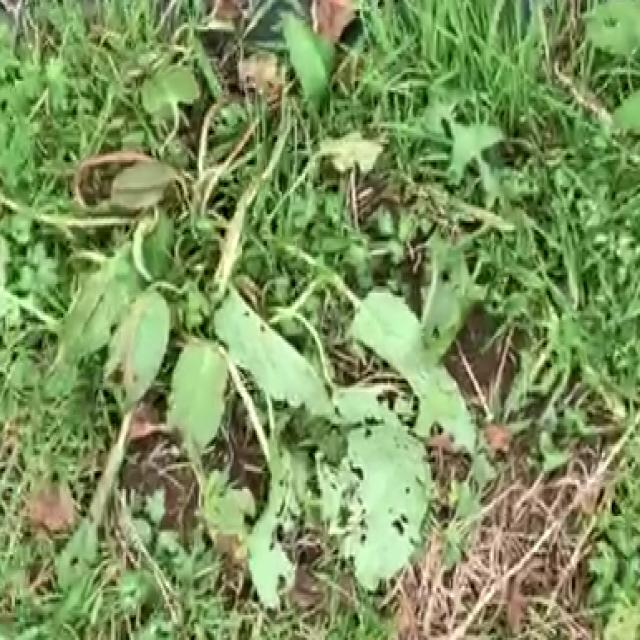organic waste: (79, 67, 555, 640)
